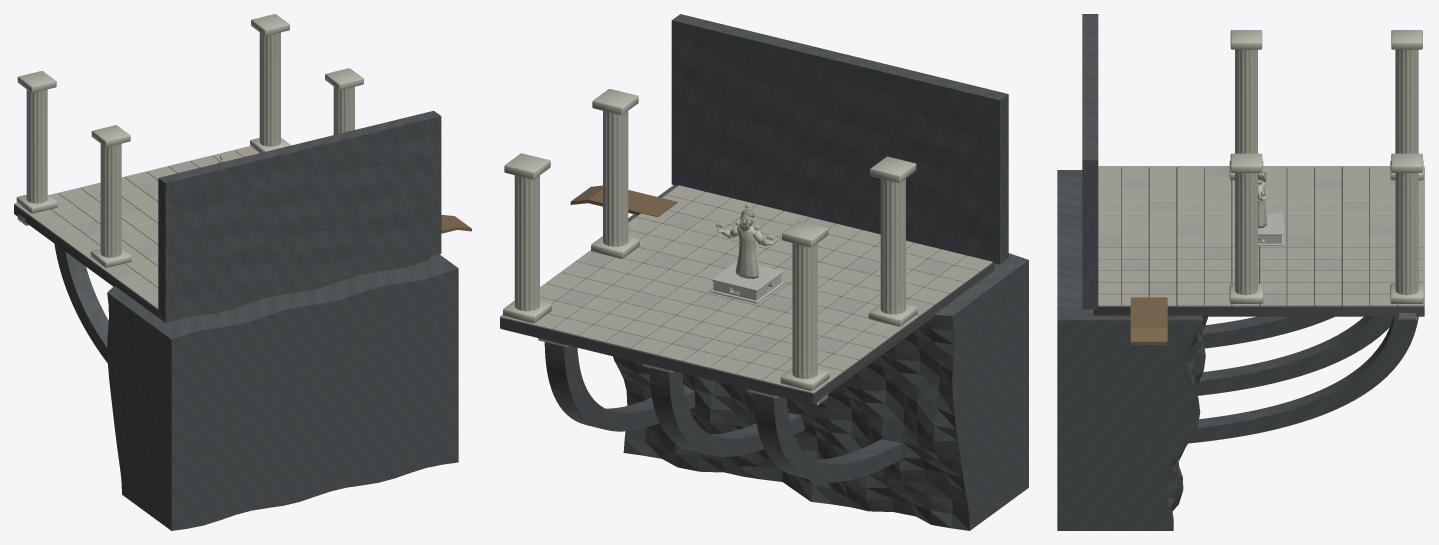
Rendered from retreat_round2_a5.glb.
3 renders of one model, left to right at view 1: azimuth 30°, elevation 25°; view 2: azimuth 150°, elevation 25°; view 3: azimuth 270°, elevation 25°, orthographic. The views are drawn at different scales.
Visible parts, largest first — view 1: VTT_Cliff_Bounded_Anchor, CANON_North_Carved_Rock_Wall, CANON_Floor_Temple, CANON_Column_-4.12_0.35, CANON_Column_-4.12_-4.02, CANON_Column_4.12_-4.02, CANON_Arched_Support_-3, CANON_Column_4.12_0.35; view 2: CANON_North_Carved_Rock_Wall, CANON_Floor_Temple, VTT_Cliff_Bounded_Anchor, CANON_Arched_Support_-3, CANON_Column_-4.12_0.35, CANON_Column_-4.12_-4.02, CANON_Column_4.12_-4.02, CANON_Column_4.12_0.35, CANON_Arched_Support_0, CANON_Arched_Support_3, CANON_Bahamut_Pedestal, CANON_Bahamut_Kind_Elder; view 3: CANON_Floor_Temple, VTT_Cliff_Bounded_Anchor, CANON_Arched_Support_3, CANON_North_Carved_Rock_Wall, CANON_Arched_Support_0, CANON_Column_4.12_-4.02, CANON_Column_4.12_0.35, CANON_Column_-4.12_-4.02, CANON_Column_-4.12_0.35, CANON_Arched_Support_-3, CANON_Bahamut_Pedestal, CANON_Bahamut_Kind_Elder.
Boxes of the visible parts, x1,y1,x2,y2 form: VTT_Cliff_Bounded_Anchor: [107, 254, 458, 530]; CANON_North_Carved_Rock_Wall: [158, 111, 441, 320]; CANON_Floor_Temple: [14, 146, 429, 322]; CANON_Column_-4.12_0.35: [90, 125, 131, 267]; CANON_Column_-4.12_-4.02: [16, 71, 57, 213]; CANON_Column_4.12_-4.02: [250, 14, 290, 152]; CANON_Arched_Support_-3: [54, 244, 108, 363]; CANON_Column_4.12_0.35: [325, 68, 363, 134]; CANON_North_Carved_Rock_Wall: [671, 14, 1008, 264]; CANON_Floor_Temple: [500, 185, 994, 404]; VTT_Cliff_Bounded_Anchor: [613, 185, 1028, 530]; CANON_Arched_Support_-3: [748, 389, 902, 482]; CANON_Column_-4.12_0.35: [868, 156, 917, 326]; CANON_Column_-4.12_-4.02: [780, 221, 829, 390]; CANON_Column_4.12_-4.02: [503, 153, 551, 323]; CANON_Column_4.12_0.35: [591, 89, 639, 258]; CANON_Arched_Support_0: [643, 363, 804, 456]; CANON_Arched_Support_3: [538, 338, 695, 431]; CANON_Bahamut_Pedestal: [710, 260, 784, 303]; CANON_Bahamut_Kind_Elder: [716, 209, 773, 278]; CANON_Floor_Temple: [1094, 166, 1424, 316]; VTT_Cliff_Bounded_Anchor: [1057, 170, 1207, 530]; CANON_Arched_Support_3: [1189, 316, 1418, 443]; CANON_North_Carved_Rock_Wall: [1082, 14, 1098, 309]; CANON_Arched_Support_0: [1195, 316, 1392, 395]; CANON_Column_4.12_-4.02: [1390, 153, 1423, 303]; CANON_Column_4.12_0.35: [1229, 153, 1263, 303]; CANON_Column_-4.12_-4.02: [1390, 30, 1423, 180]; CANON_Column_-4.12_0.35: [1229, 30, 1263, 180]; CANON_Arched_Support_-3: [1201, 316, 1334, 348]; CANON_Bahamut_Pedestal: [1234, 213, 1283, 246]; CANON_Bahamut_Kind_Elder: [1258, 166, 1267, 228].
Bounding box in the file's own units: 17.08 × 16.62 × 15.
8 materials, 1 textured.
